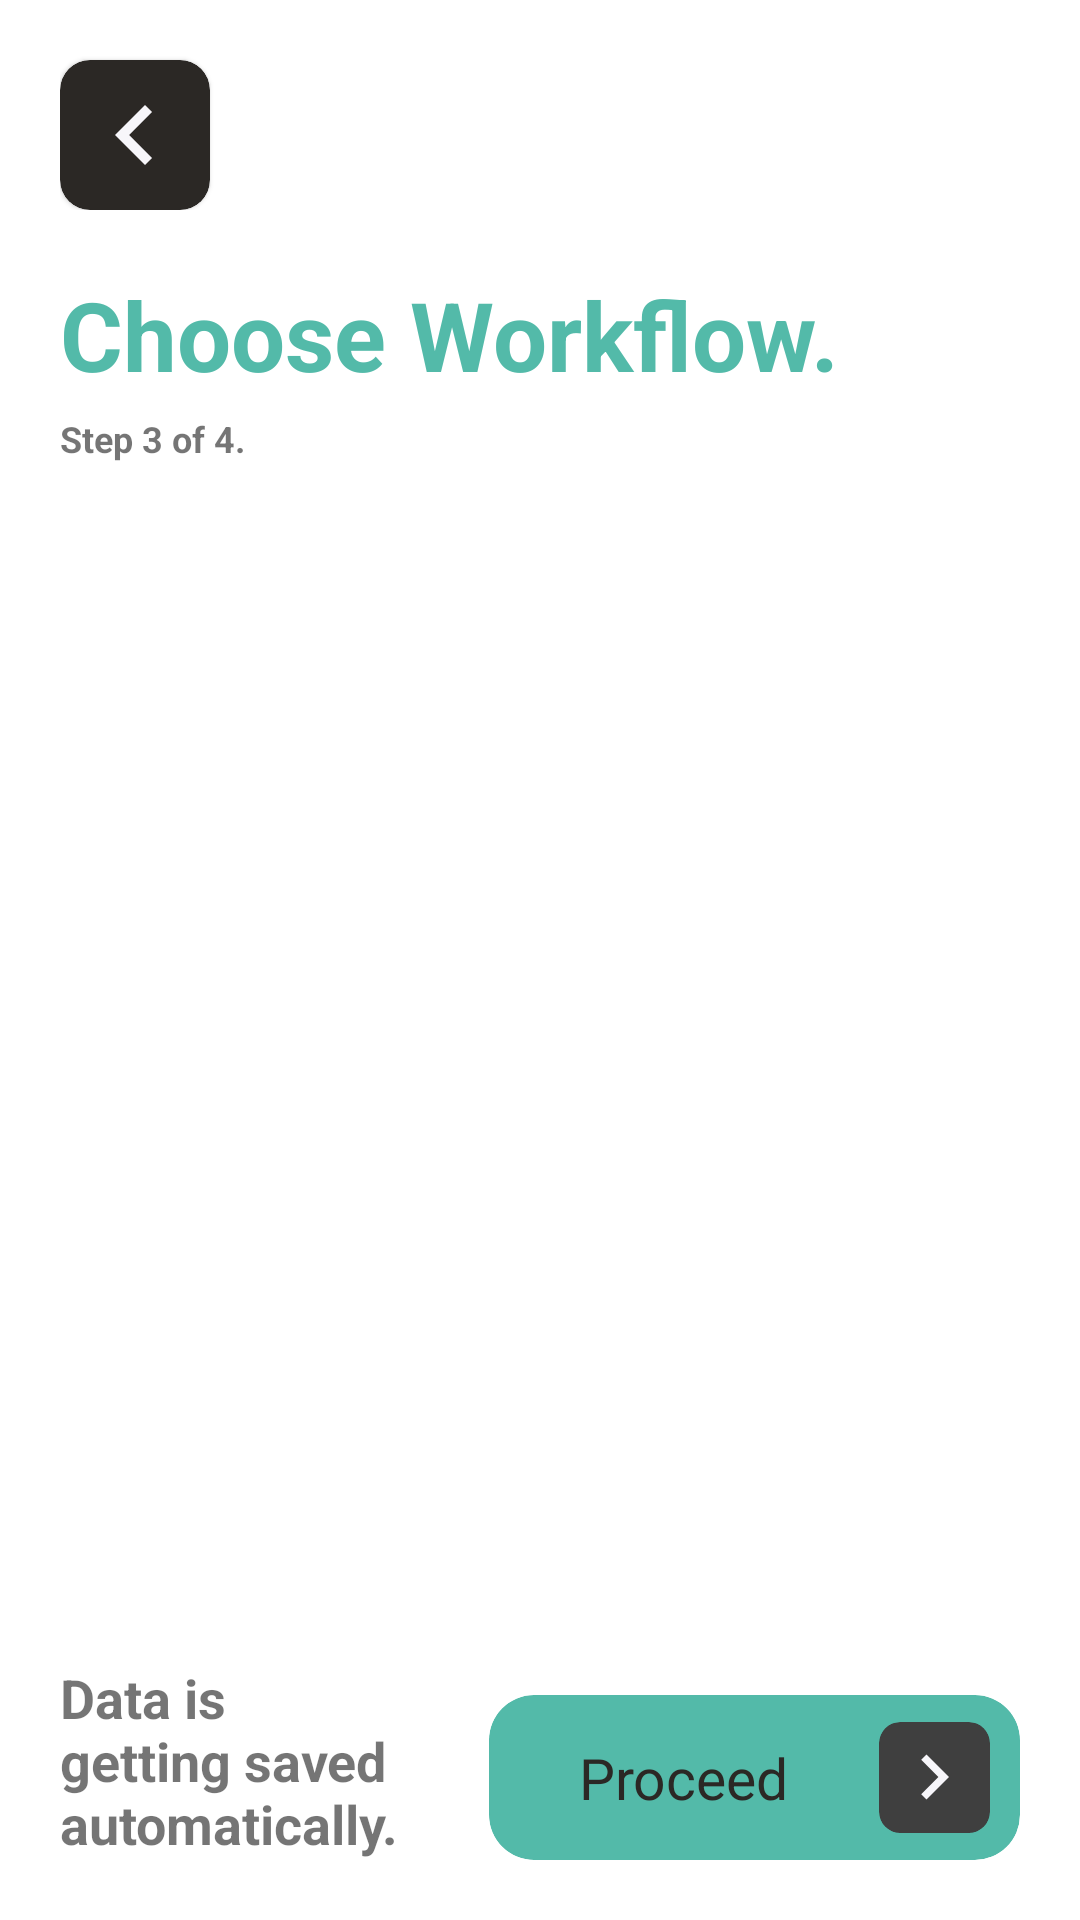

Icons on this 1080w x 1920h Android screen, each with its box as (x1, y1, x2, y2):
chevron left: (115, 105, 152, 165)
chevron right: (921, 1754, 949, 1800)
